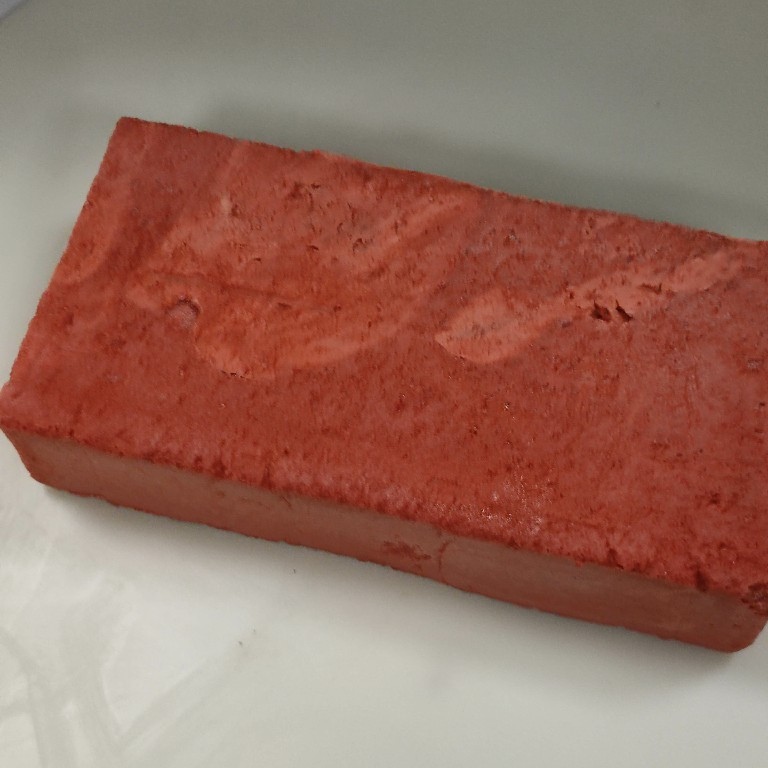brick: (3, 113, 768, 658)
